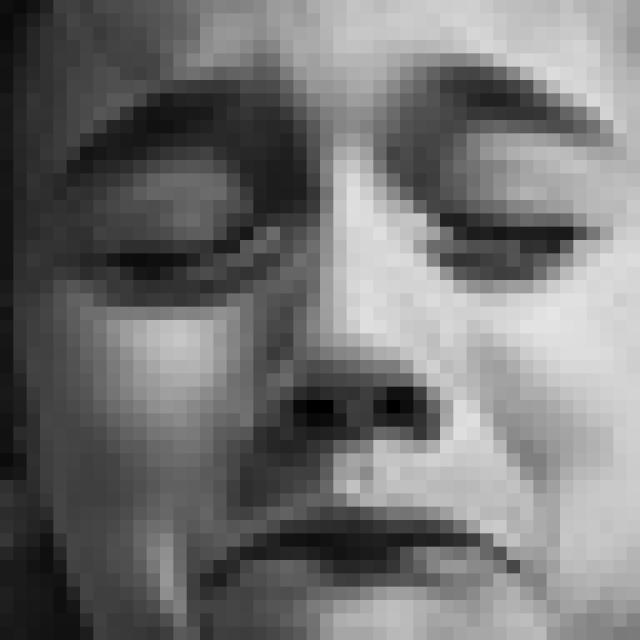sad: (42, 46, 640, 640)
